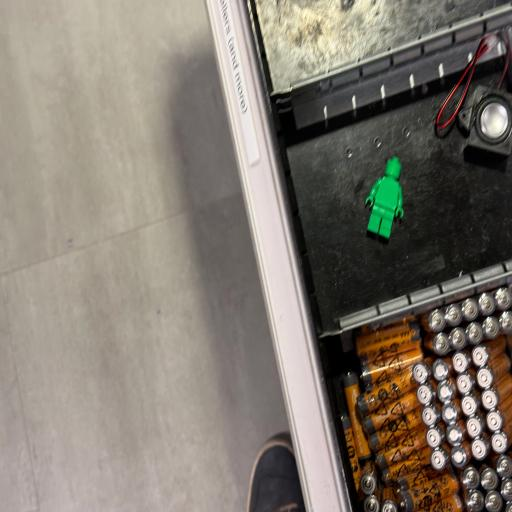Lego-Dude: (365, 157, 404, 240)
